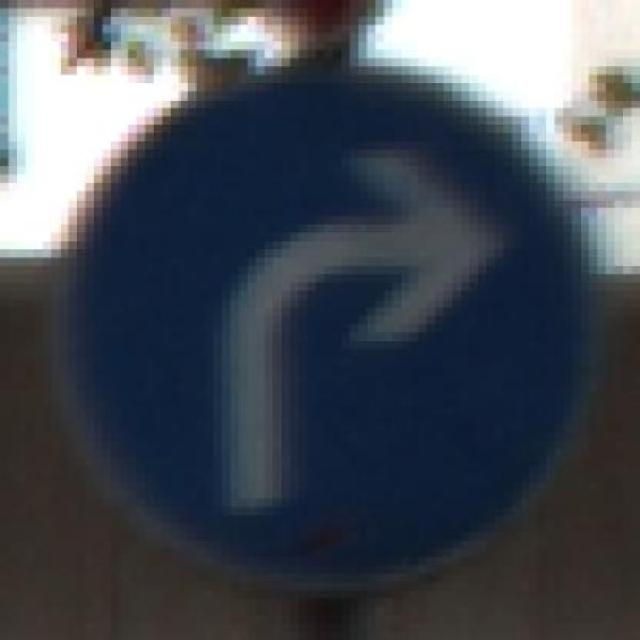Turn right ahead: (51, 66, 623, 599)
